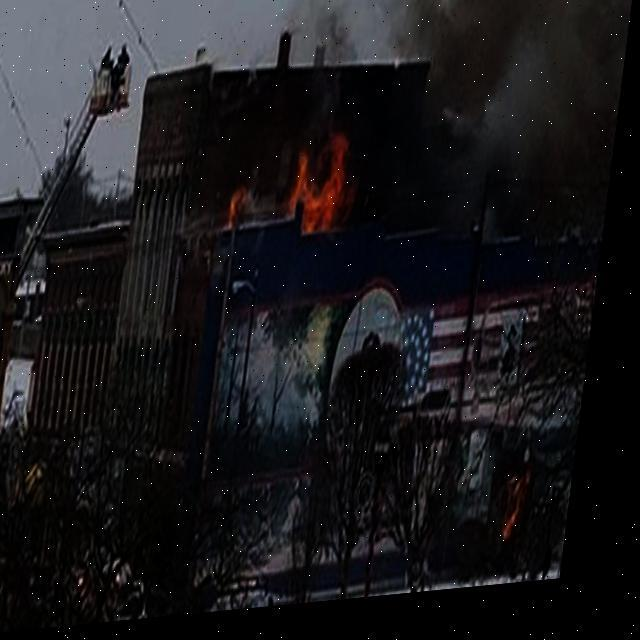Fire: (228, 120, 379, 256)
